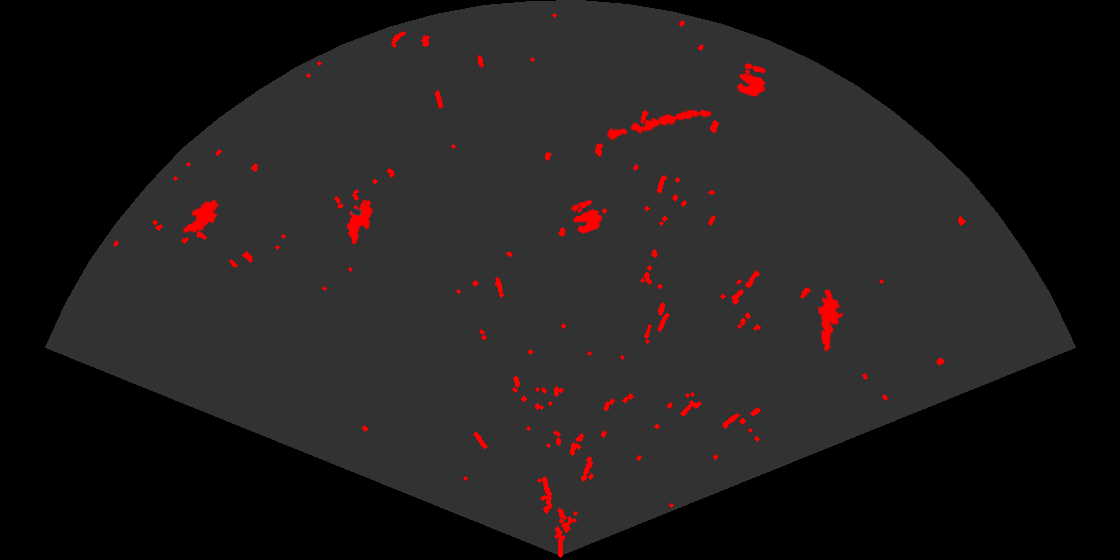AUV: (181, 198, 220, 235), (345, 198, 374, 246)
ball: (569, 198, 604, 235), (735, 62, 768, 98)
chain: (604, 108, 714, 142)
frogman: (816, 290, 845, 353)
